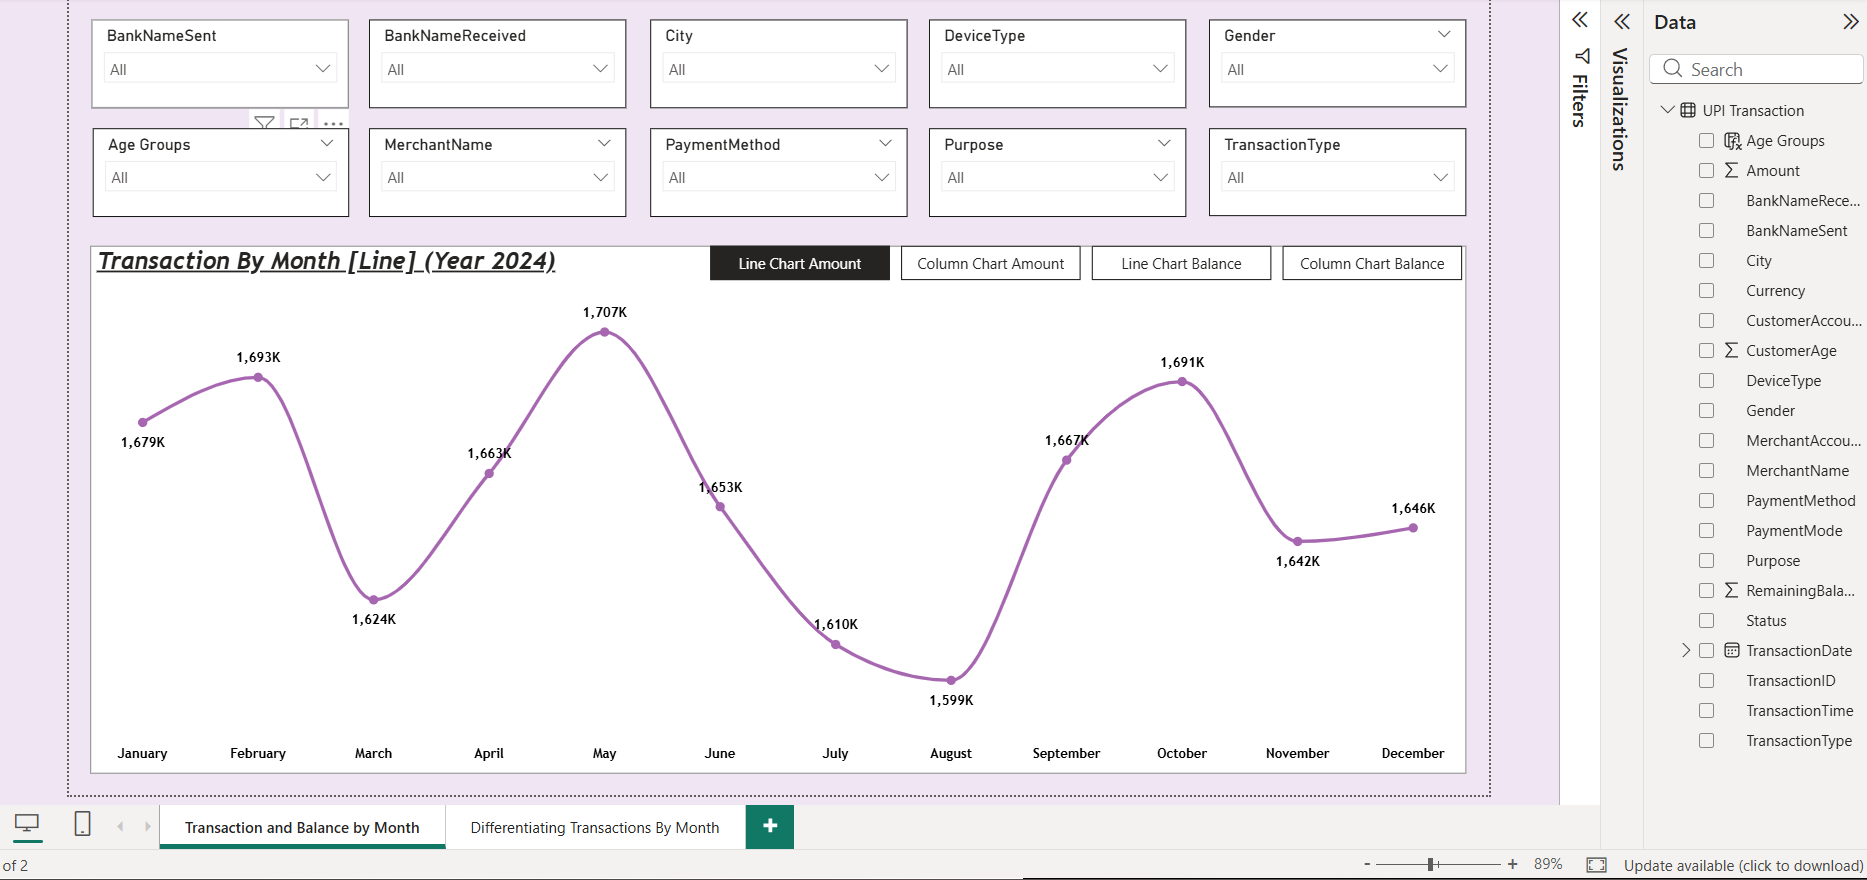

Layout of this report page (visuals, bound fields, positions):
{"tool":"powerbi","page":{"name":"Transaction and Balance by Month","canvas":[1280,720],"ordinal":0},"visuals":[{"type":"slicer","fields":{"Values":["UPI Transaction.BankNameSent"]},"box":[20,20,232,80],"z":0},{"type":"slicer","fields":{"Values":["UPI Transaction.BankNameReceived"]},"box":[271,20,232,79.8],"z":1000},{"type":"slicer","fields":{"Values":["UPI Transaction.City"]},"box":[524,20,232,79.8],"z":2000},{"type":"slicer","fields":{"Values":["UPI Transaction.DeviceType"]},"box":[776,20,232,79.8],"z":3000},{"type":"slicer","fields":{"Values":["UPI Transaction.Gender"]},"box":[1028,20.3,232,79],"z":4000},{"type":"slicer","fields":{"Values":["UPI Transaction.Age Groups"]},"box":[21.4,118.3,231.1,80],"z":5000},{"type":"slicer","fields":{"Values":["UPI Transaction.MerchantName"]},"box":[270.5,118.3,232.2,80],"z":6000},{"type":"slicer","fields":{"Values":["UPI Transaction.PaymentMethod"]},"box":[524.1,118.3,232.2,80],"z":7000},{"type":"slicer","fields":{"Values":["UPI Transaction.Purpose"]},"box":[775.5,118.3,232.2,80],"z":8000},{"type":"slicer","fields":{"Values":["UPI Transaction.TransactionType"]},"box":[1027.9,118.3,232.2,78.9],"z":9000},{"type":"lineChart","title":"Transaction By Month [Line] (Year 2024)","fields":{"Y":["Sum(UPI Transaction.Amount)"],"Category":["UPI Transaction.TransactionDate.Variation.Date Hierarchy.Month"]},"box":[19.2,224.3,1241,475.6],"z":10000},{"type":"bookmarkNavigator","box":[578.2,224.3,681.9,31.6],"z":14500}]}

Visuals, with their boxes on the page's 1280x720 design canvas (x1, y1, x2, y2). These are canvas units, not pixel positions in the 1867x880 screenshot, which may show the page scaled, cropped or inside an application window:
slicer - UPI Transaction.BankNameSent: bbox=(20, 20, 252, 100)
slicer - UPI Transaction.BankNameReceived: bbox=(271, 20, 503, 100)
slicer - UPI Transaction.City: bbox=(524, 20, 756, 100)
slicer - UPI Transaction.DeviceType: bbox=(776, 20, 1008, 100)
slicer - UPI Transaction.Gender: bbox=(1028, 20, 1260, 99)
slicer - UPI Transaction.Age Groups: bbox=(21, 118, 252, 198)
slicer - UPI Transaction.MerchantName: bbox=(270, 118, 503, 198)
slicer - UPI Transaction.PaymentMethod: bbox=(524, 118, 756, 198)
slicer - UPI Transaction.Purpose: bbox=(776, 118, 1008, 198)
slicer - UPI Transaction.TransactionType: bbox=(1028, 118, 1260, 197)
"Transaction By Month [Line] (Year 2024)" lineChart: bbox=(19, 224, 1260, 700)
bookmarkNavigator: bbox=(578, 224, 1260, 256)
